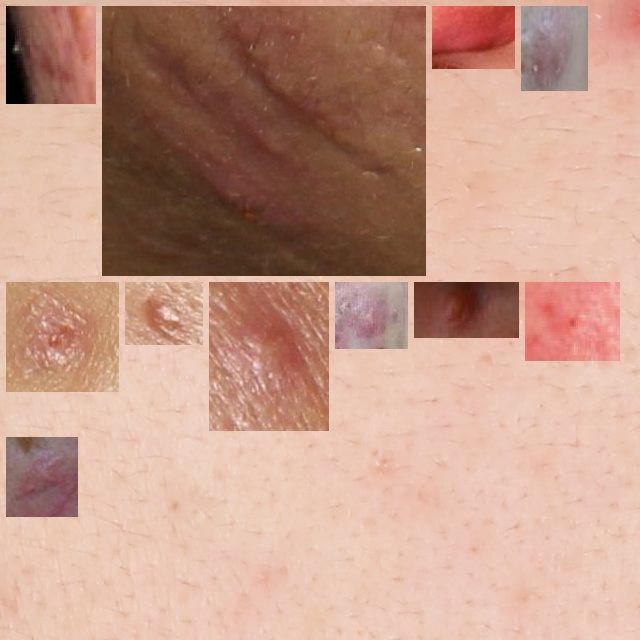nodule: (110, 14, 418, 268), (217, 290, 321, 423), (14, 290, 111, 384), (13, 14, 88, 96), (533, 290, 612, 353), (14, 445, 70, 509), (422, 290, 511, 330), (529, 14, 580, 83), (440, 14, 507, 61), (133, 290, 195, 337), (343, 290, 400, 341)
